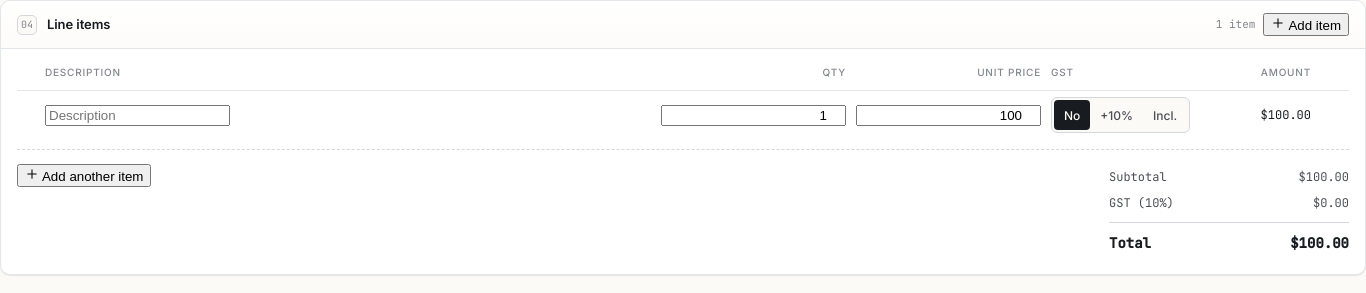
ItemForm › accepts fractional quantities such as hours
Replace the text in the 1st number field named "Item 1 Quantity" with "7.5" at (754, 116), box [661,105,846,126]
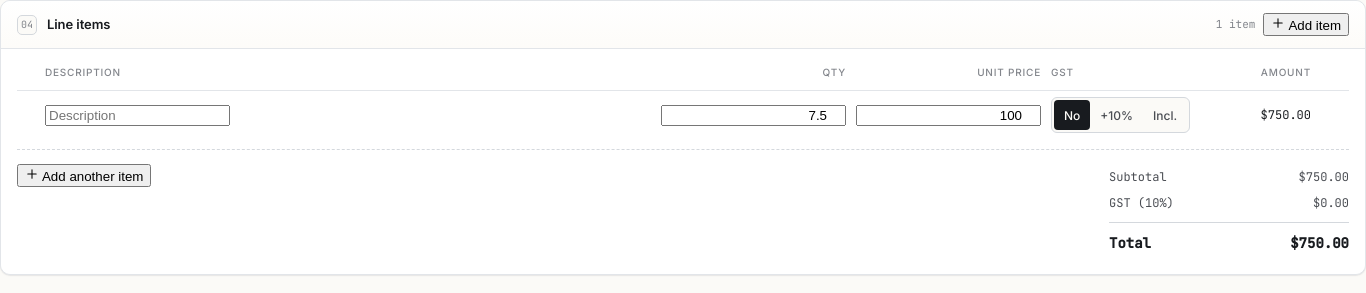
Now the text "$750.00" is shown, box [1211,91,1321,139]
